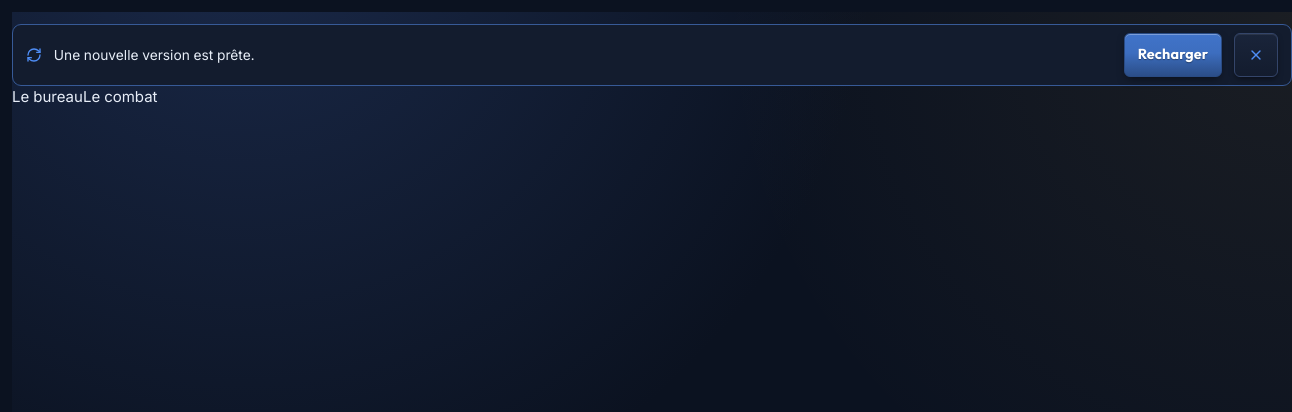
Test: BandeauNouvelleVersion (#355) › la fermeture fait disparaître le bandeau sans recharger
Click the button named "Fermer": (1256, 55) [1234,33,1278,77]
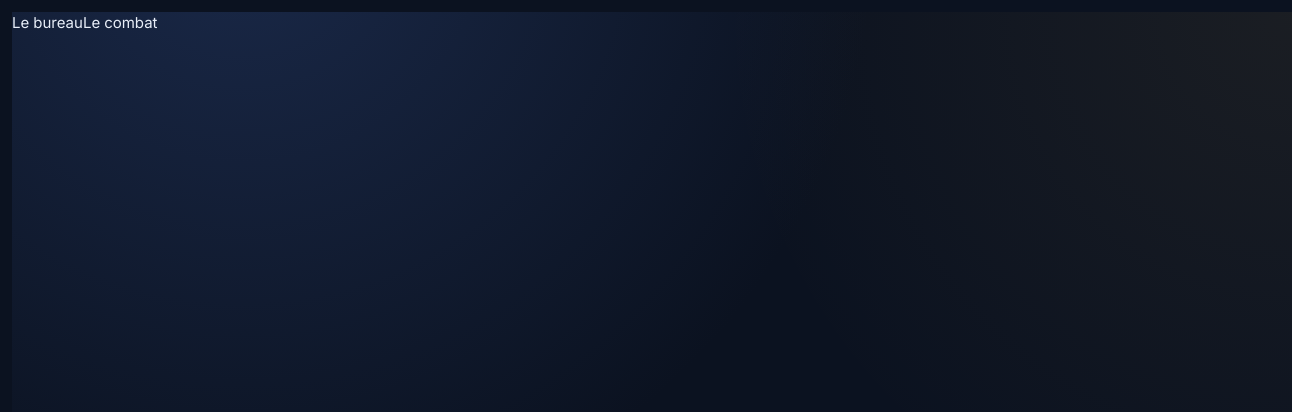
expect the text "nouvelle version est prête" is gone: met
